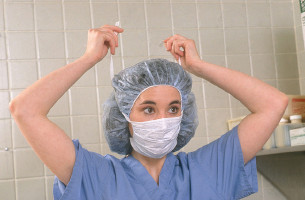face_mask: (126, 83, 181, 158)
